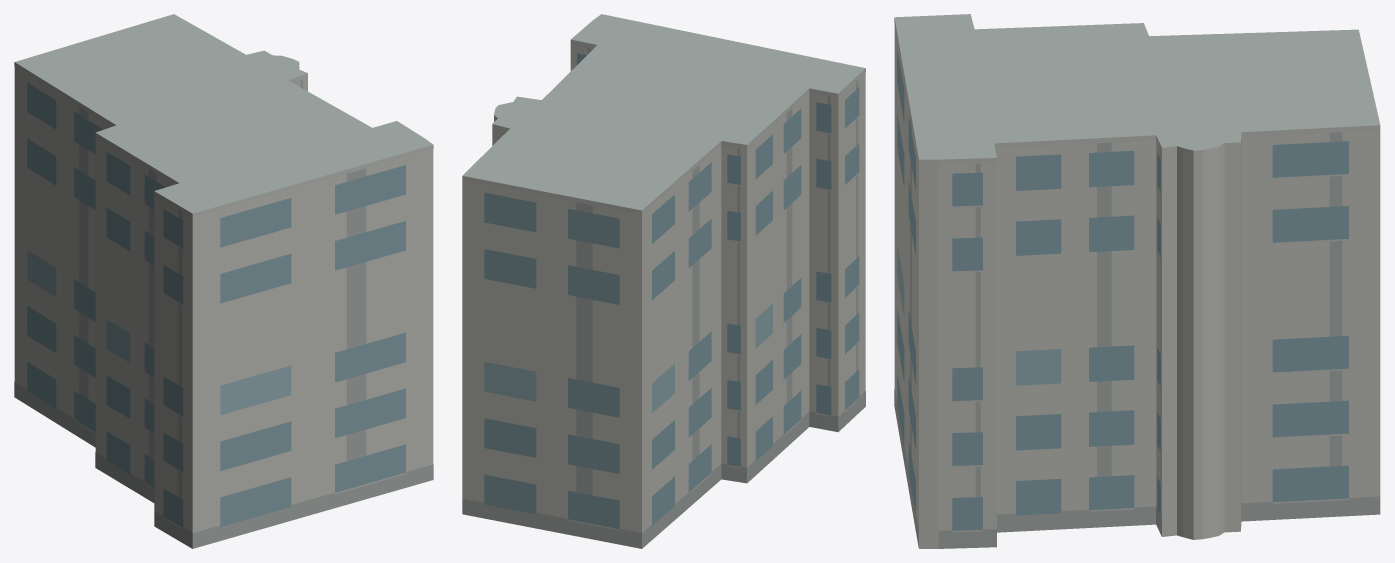
The model's file is survey-upis-33031292.glb.
3 renders of one model, left to right at view 1: azimuth 30°, elevation 25°; view 2: azimuth 150°, elevation 25°; view 3: azimuth 270°, elevation 25°, orthographic. The views are drawn at different scales.
Parts seen in each view (by area): view 1: survey-upis-33031292.tmp; view 2: survey-upis-33031292.tmp; view 3: survey-upis-33031292.tmp.
Part boxes in pixels (x1,y1,x2,y2): survey-upis-33031292.tmp: (14, 14, 433, 548); survey-upis-33031292.tmp: (462, 14, 865, 548); survey-upis-33031292.tmp: (894, 14, 1380, 548).
Bounding box in the file's own units: 14.98 × 18.67 × 21.13.
